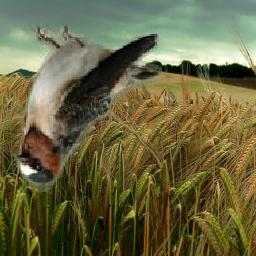Swallow: (12, 24, 163, 193)
